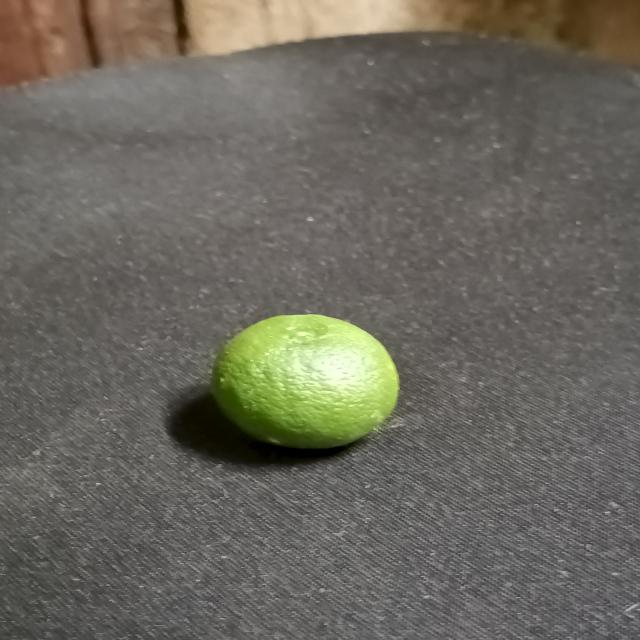heathy: (204, 311, 406, 454)
